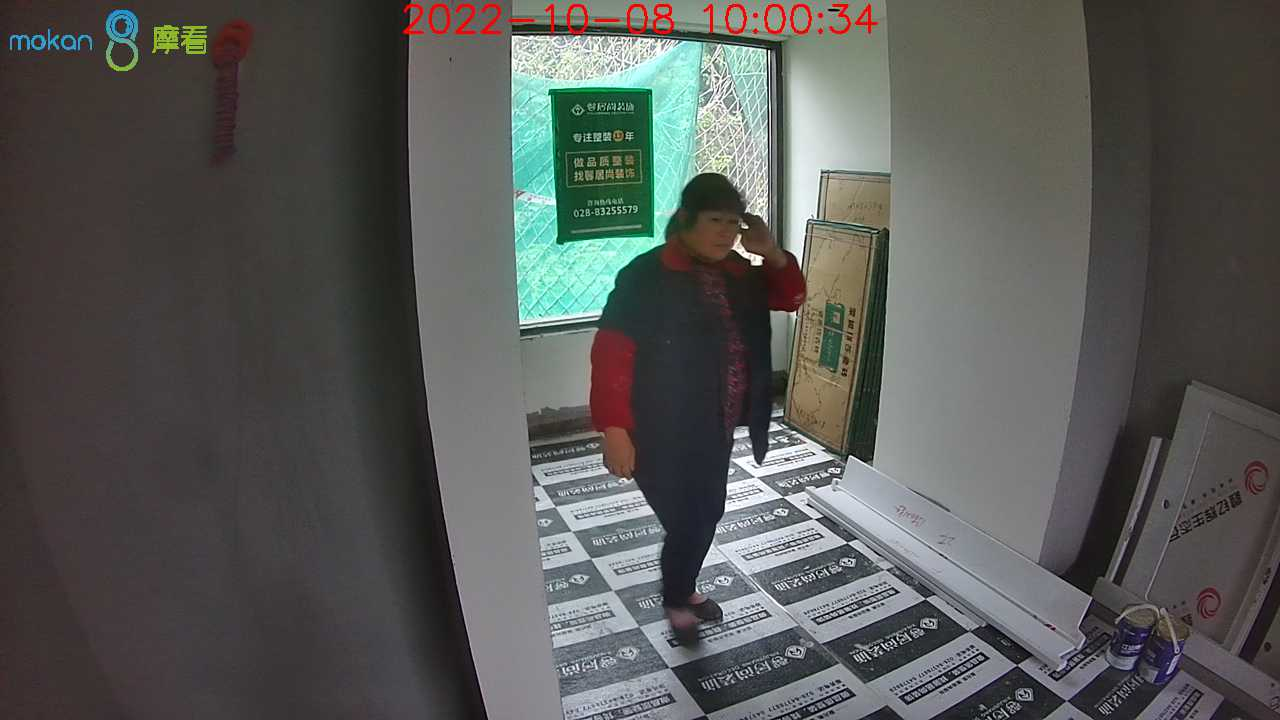people: (590, 172, 806, 647)
window: (510, 31, 789, 320)
